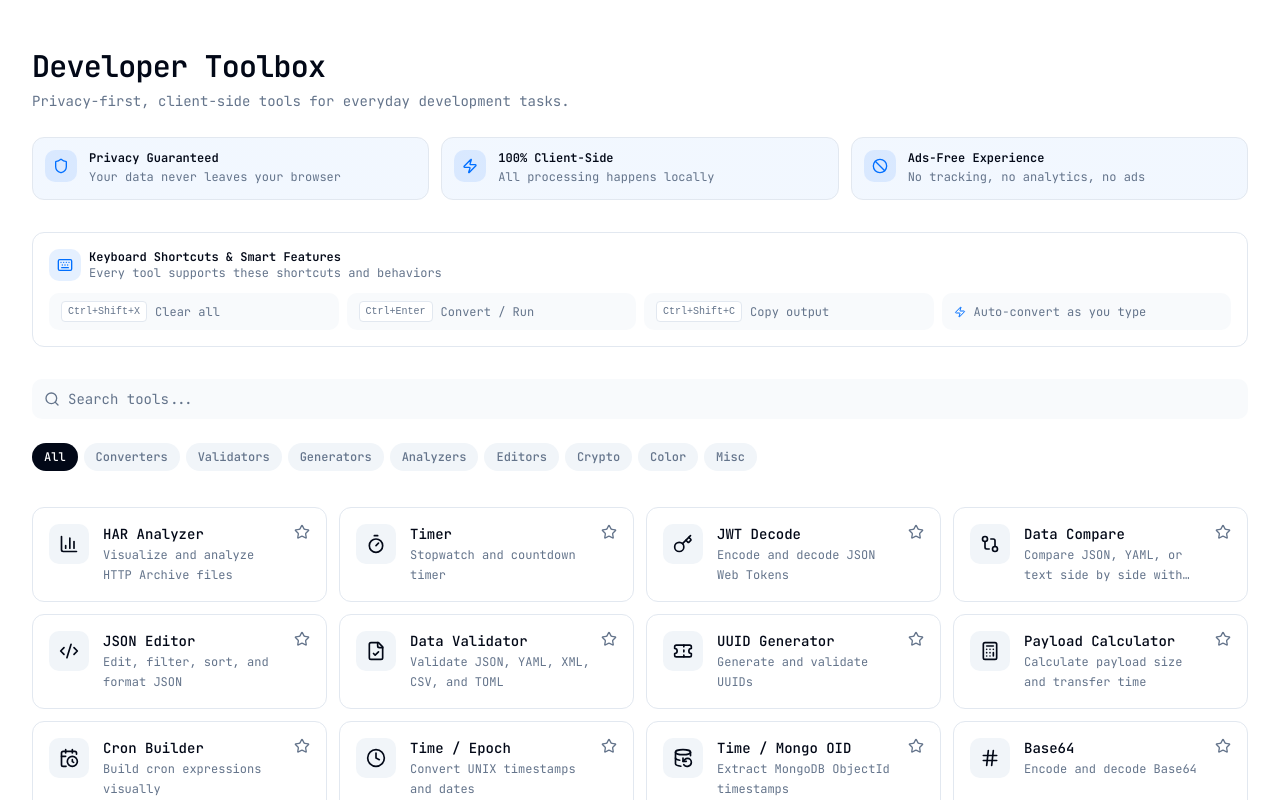
HomePage › category filtering › filters by Converters category
Click the button "Converters".
click(132, 457)  # box [84,443,180,471]
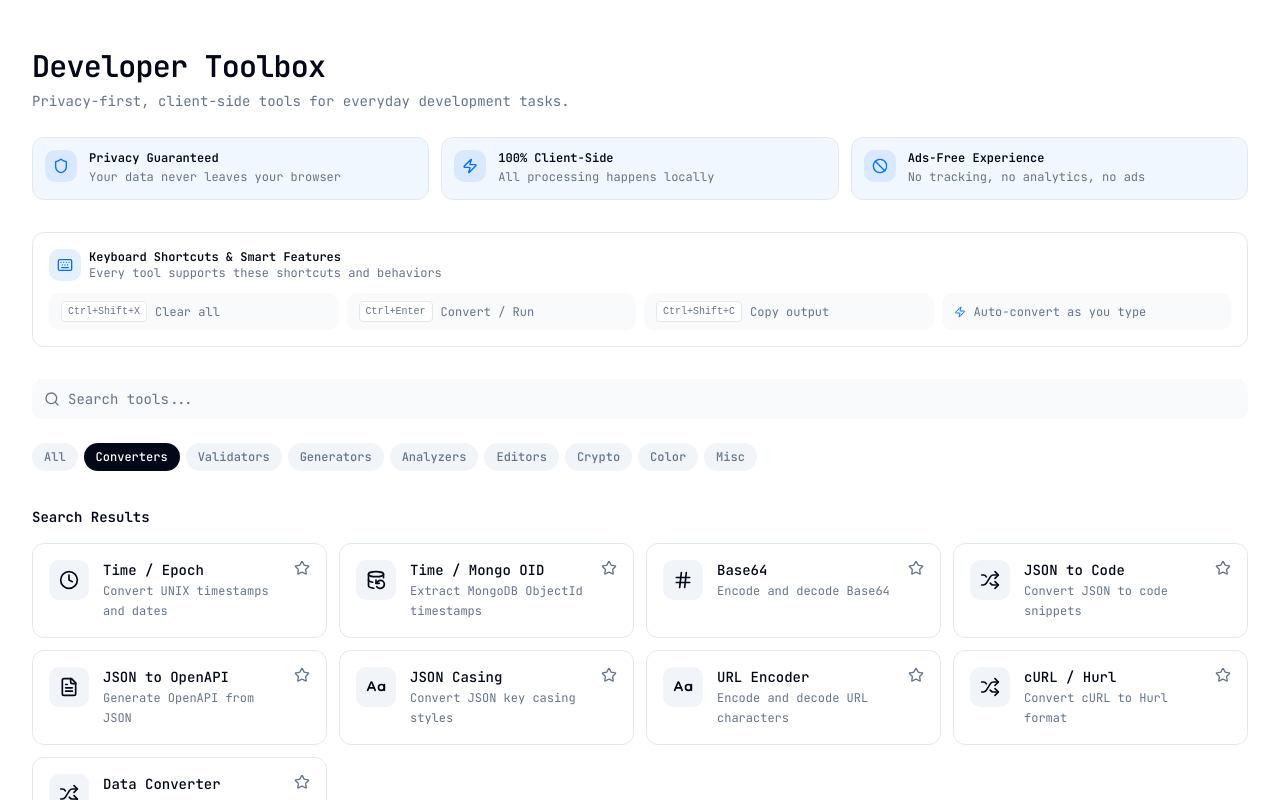
Expected: the text "Base64" is shown, [717,560,767,580]
Expected: the link "JWT Decode" is gone
